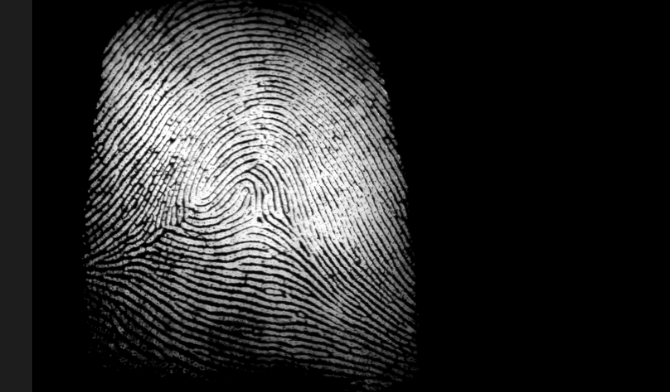nucelo: (234, 182, 252, 195)
verticilo: (248, 210, 268, 228), (170, 212, 187, 228)
